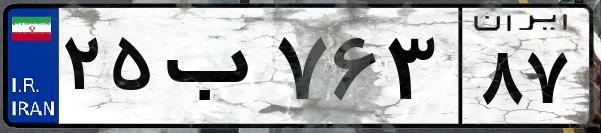2: (57, 26, 110, 100)
3: (385, 28, 445, 110)
5: (110, 28, 158, 98)
6: (330, 28, 385, 110)
7: (270, 28, 330, 110), (525, 38, 570, 115)
8: (475, 38, 525, 113)
ب: (158, 20, 270, 120)
